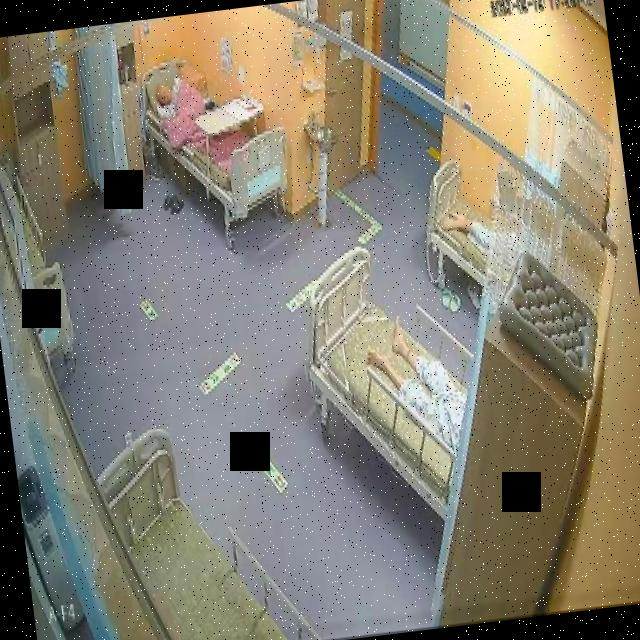bed: (296, 236, 482, 526), (91, 407, 322, 640), (137, 49, 293, 228), (418, 156, 498, 292)
lie: (364, 306, 476, 460), (148, 62, 241, 156)
patient: (364, 306, 474, 459), (150, 70, 190, 124)
